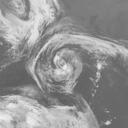cyclone: (26, 33, 121, 92)
